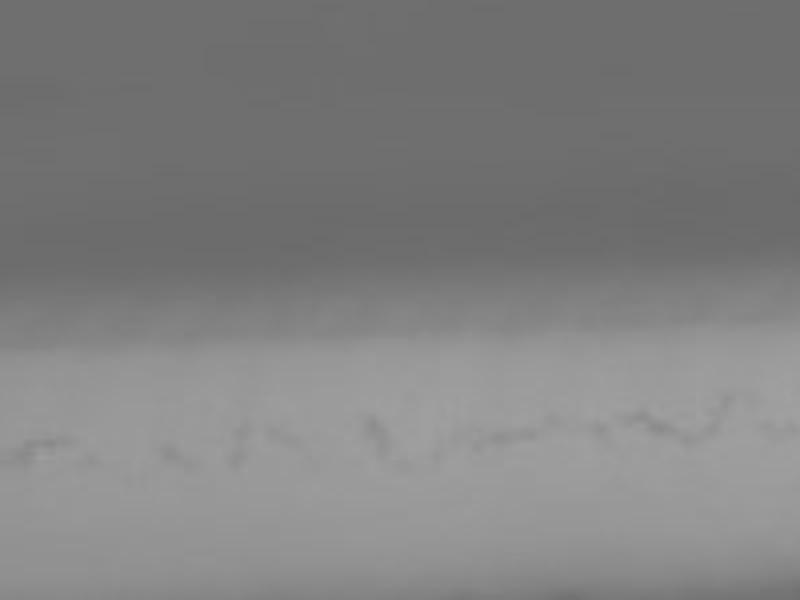defect: (623, 407, 674, 437), (15, 437, 65, 462), (265, 419, 304, 445), (754, 420, 794, 444), (484, 425, 539, 441), (155, 434, 184, 463), (695, 408, 722, 439), (590, 416, 616, 443), (353, 412, 380, 437), (374, 429, 396, 459), (463, 429, 488, 455), (227, 447, 253, 471), (227, 414, 252, 438), (394, 451, 417, 475), (427, 445, 446, 470), (677, 423, 698, 445), (714, 392, 736, 410), (540, 414, 560, 433), (77, 452, 91, 467)
